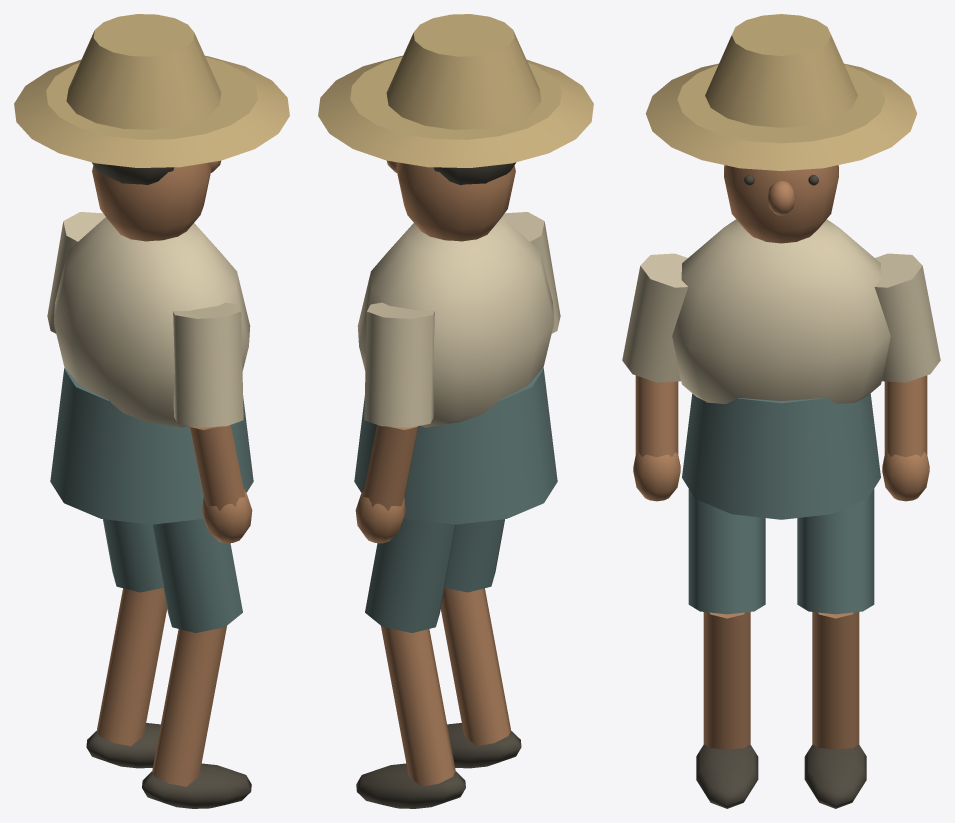
The picture shows the model from 3 angles, left to right: view 1: azimuth 30°, elevation 25°; view 2: azimuth 150°, elevation 25°; view 3: azimuth 270°, elevation 25°; orthographic projection. The views are drawn at different scales.
Parts seen in each view (by area): view 1: head_straw, Tidemark_island_resident_linen, Tidemark_island_resident_cloth, shoulder_right_linen, hip_right_cloth, knee_right_skin, knee_left_skin, head_skin, elbow_right_skin, hip_left_cloth, knee_right_dark, knee_left_dark (+2 smaller); view 2: head_straw, Tidemark_island_resident_linen, Tidemark_island_resident_cloth, shoulder_left_linen, hip_left_cloth, knee_left_skin, knee_right_skin, head_skin, elbow_left_skin, hip_right_cloth, knee_left_dark, knee_right_dark (+2 smaller); view 3: Tidemark_island_resident_linen, head_straw, Tidemark_island_resident_cloth, hip_left_cloth, hip_right_cloth, head_skin, knee_left_skin, knee_right_skin, shoulder_left_linen, shoulder_right_linen, elbow_left_skin, elbow_right_skin (+2 smaller).
Boxes of the visible parts, <box> form: head_straw: <box>14,14,289,167</box>; Tidemark_island_resident_linen: <box>53,217,250,427</box>; Tidemark_island_resident_cloth: <box>50,368,253,524</box>; shoulder_right_linen: <box>173,302,243,427</box>; hip_right_cloth: <box>152,518,242,632</box>; knee_right_skin: <box>152,626,226,786</box>; knee_left_skin: <box>96,588,167,746</box>; head_skin: <box>92,160,220,241</box>; elbow_right_skin: <box>189,425,252,543</box>; hip_left_cloth: <box>103,519,163,592</box>; knee_right_dark: <box>142,763,251,808</box>; knee_left_dark: <box>86,723,160,768</box>; head_straw: <box>318,14,593,167</box>; Tidemark_island_resident_linen: <box>357,217,554,427</box>; Tidemark_island_resident_cloth: <box>354,368,557,524</box>; shoulder_left_linen: <box>364,302,434,427</box>; hip_left_cloth: <box>365,518,455,632</box>; knee_left_skin: <box>381,626,455,786</box>; knee_right_skin: <box>440,588,511,746</box>; head_skin: <box>387,160,515,241</box>; elbow_left_skin: <box>355,425,418,543</box>; hip_right_cloth: <box>444,519,504,592</box>; knee_left_dark: <box>356,763,465,808</box>; knee_right_dark: <box>447,723,521,768</box>; Tidemark_island_resident_linen: <box>672,219,890,404</box>; head_straw: <box>645,14,917,170</box>; Tidemark_island_resident_cloth: <box>682,393,880,519</box>; hip_left_cloth: <box>797,489,874,614</box>; hip_right_cloth: <box>688,489,765,614</box>; head_skin: <box>724,165,838,243</box>; knee_left_skin: <box>812,612,859,749</box>; knee_right_skin: <box>703,612,750,749</box>; shoulder_left_linen: <box>874,253,940,382</box>; shoulder_right_linen: <box>622,253,688,382</box>; elbow_left_skin: <box>882,375,929,501</box>; elbow_right_skin: <box>633,375,680,501</box>.
Size of the model in its own units: 0.6 by 1.81 by 0.7039.
